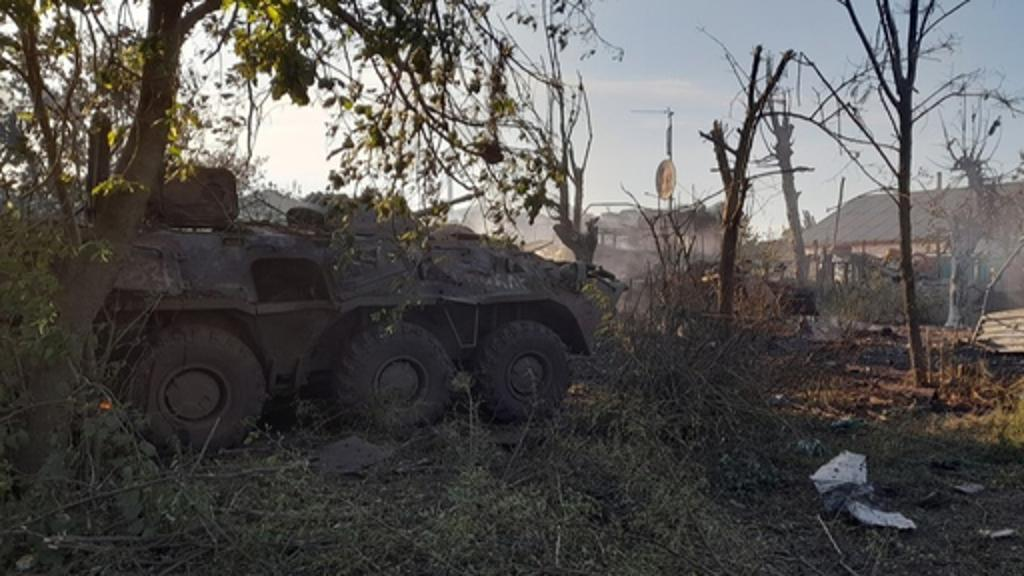APC-IFV: (2, 192, 630, 456)
